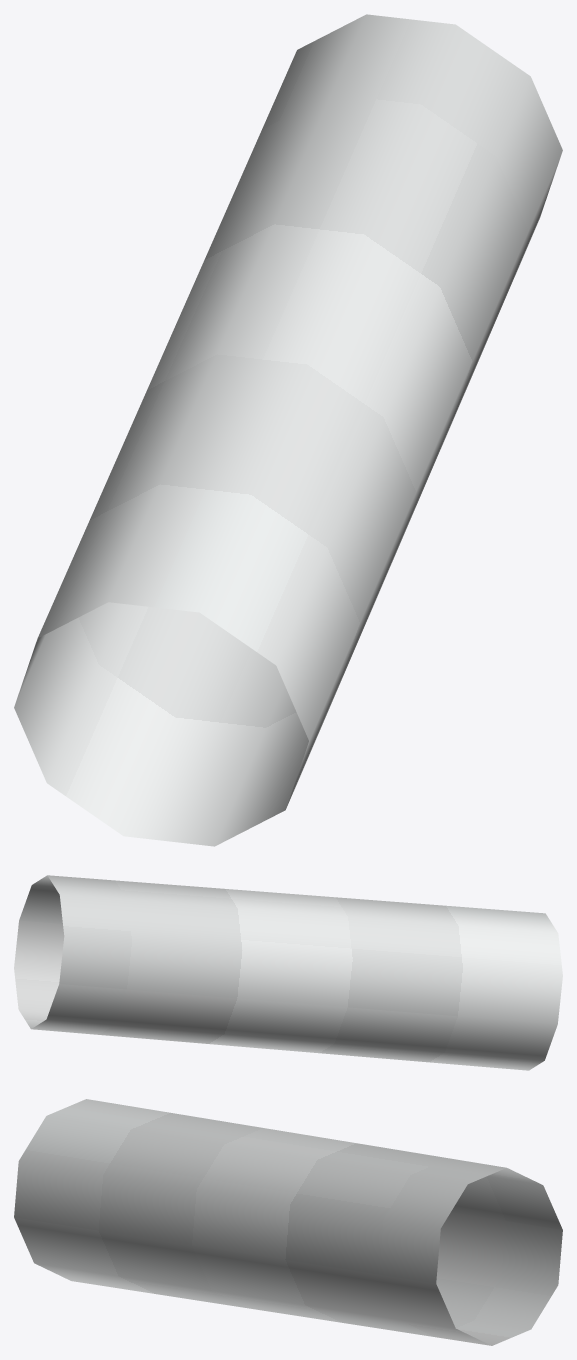
The model's file is nycsignalarm_diagonal12_c23.obj.
3 renders of one model, top to bottom at view 1: azimuth 30°, elevation 25°; view 2: azimuth 150°, elevation 25°; view 3: azimuth 270°, elevation 25°, orthographic. The views are drawn at different scales.
Visible parts, largest first — view 1: nycsignalarm_diagonal12_c23; view 2: nycsignalarm_diagonal12_c23; view 3: nycsignalarm_diagonal12_c23.
Part boxes in pixels (x1,y1,x2,y2): nycsignalarm_diagonal12_c23: (14,14,562,846); nycsignalarm_diagonal12_c23: (14,875,562,1070); nycsignalarm_diagonal12_c23: (14,1099,562,1345).
Size of the model in its own units: 0.7577 by 0.402 by 0.7577.
